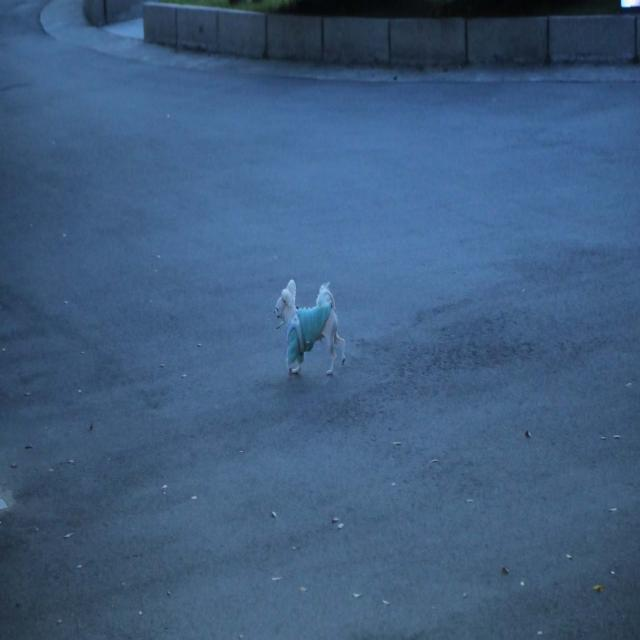Dog: (273, 278, 347, 377)
